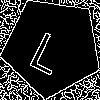L: (27, 22, 72, 76)
